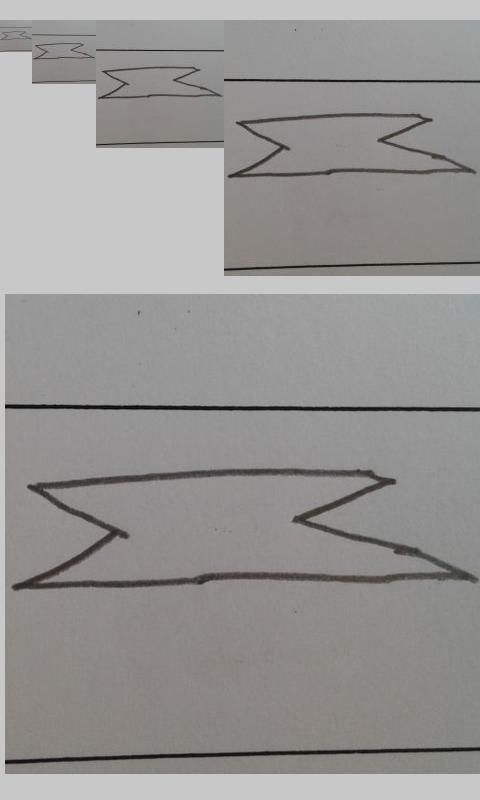edit_text: (17, 466, 469, 591), (232, 111, 474, 177), (99, 65, 222, 99), (34, 42, 95, 60), (1, 31, 31, 40)
